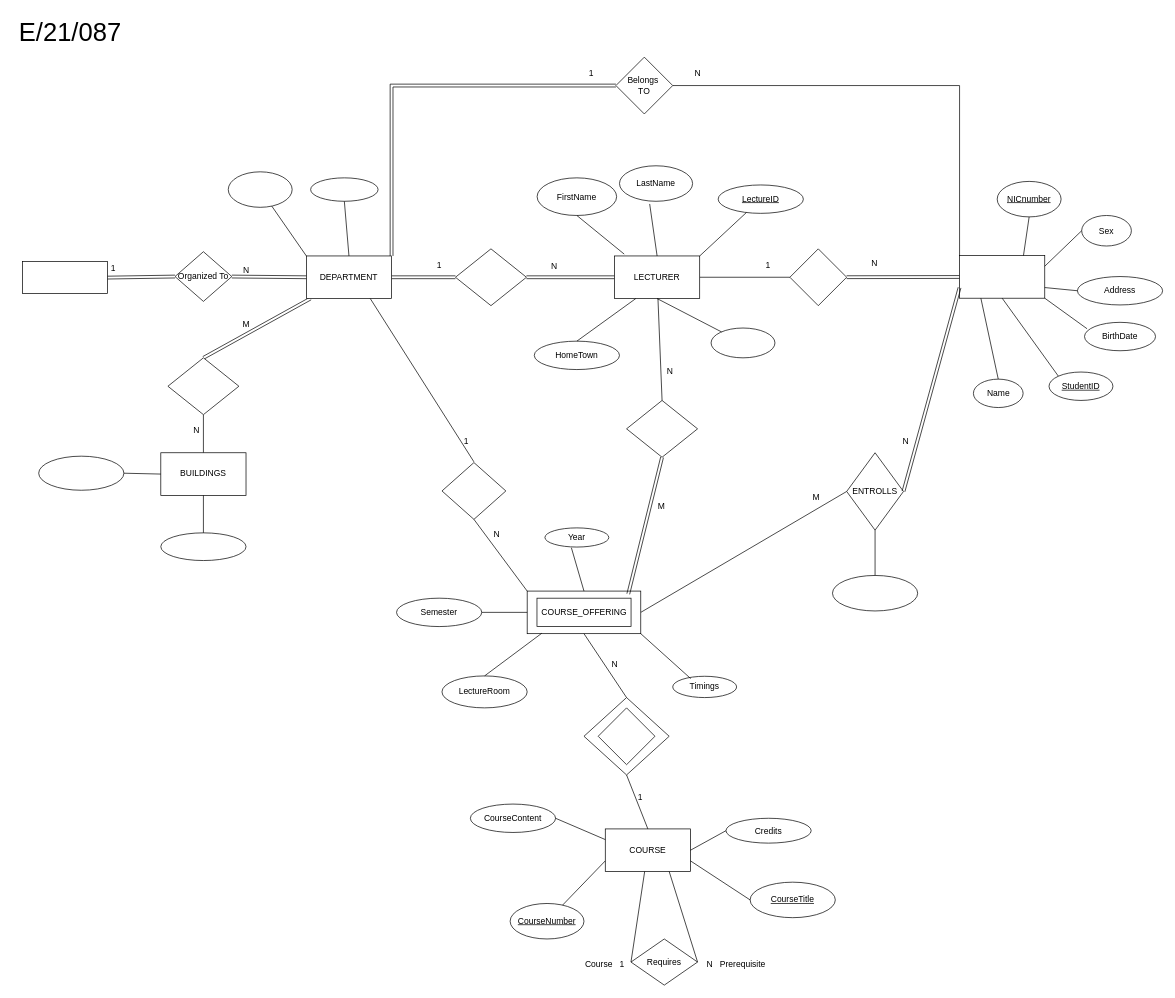
The diagram is 1175 pixels wide and 998 high, and some of its shapes have lost their labels. Each missing label, with the centre of its shape:
AssignedTo: the point at 818,277
BuidlingName: the point at 203,546
BuildingD: the point at 81,472
DeptID: the point at 344,189
DeptName: the point at 260,189
EntrollmentKey: the point at 875,593
FACULTY: the point at 65,277
HANDLES: the point at 473,490
InstanceOf: the point at 626,736
Maintains: the point at 203,386
Salary: the point at 742,342
STUDENTS: the point at 1002,276
Teaches: the point at 662,428
WorksFor: the point at 490,277
